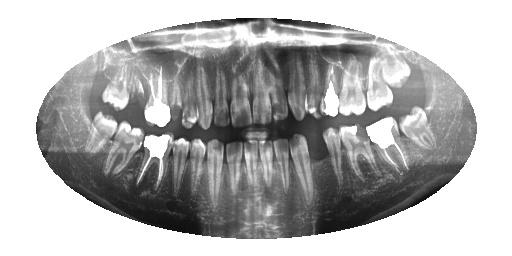i10healthy: (221, 132, 249, 204)
i11healthy: (201, 131, 229, 210)
i12healthy: (187, 131, 210, 208)
i13healthy: (168, 128, 192, 206)
i14healthy: (134, 125, 177, 203)
i15healthy: (100, 111, 150, 188)
i16healthy: (83, 106, 121, 166)
i1healthy: (395, 100, 440, 159)
i2healthy: (360, 112, 413, 177)
i3healthy: (336, 113, 382, 184)
i4healthy: (319, 121, 350, 191)
i5loss: (302, 125, 336, 194)
i6healthy: (287, 128, 320, 203)
i7healthy: (272, 132, 293, 194)
i8healthy: (256, 135, 277, 194)
i9healthy: (237, 134, 263, 199)
u10healthy: (208, 48, 236, 129)
u11healthy: (189, 47, 215, 132)
u12healthy: (177, 55, 202, 136)
u13chipped: (167, 60, 184, 127)
u14healthy: (141, 58, 175, 130)
u15loss: (123, 66, 151, 123)
u16healthy: (99, 54, 133, 116)
u1healthy: (374, 37, 413, 91)
u2healthy: (363, 49, 396, 116)
u3healthy: (335, 53, 369, 120)
u4healthy: (315, 53, 343, 120)
u5healthy: (299, 47, 326, 120)
u6healthy: (282, 45, 309, 124)
u7healthy: (262, 40, 292, 130)
u8healthy: (247, 39, 273, 129)
u9healthy: (226, 49, 255, 129)
